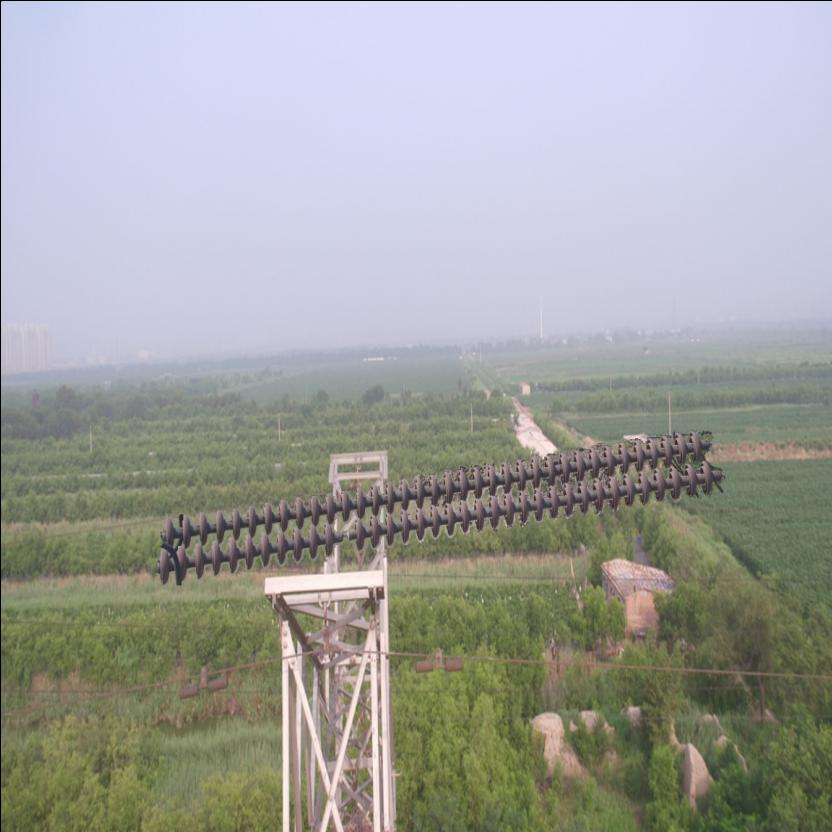defect: (316, 515, 370, 553)
